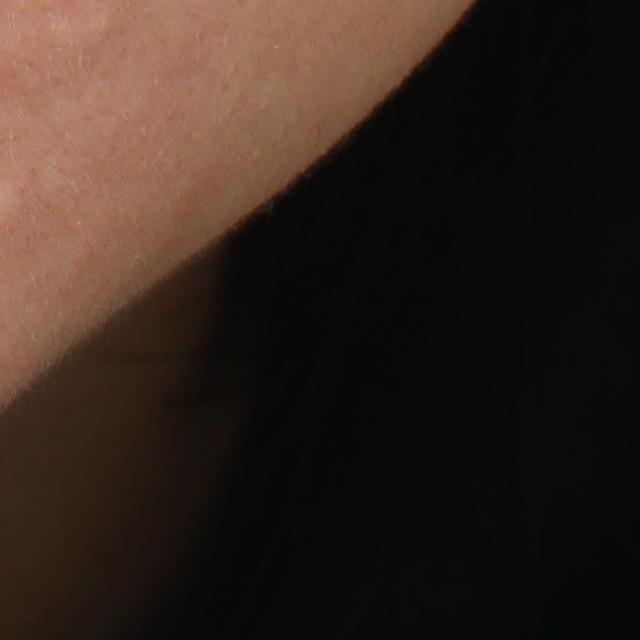hypertrophic_scar: (21, 3, 115, 59)
